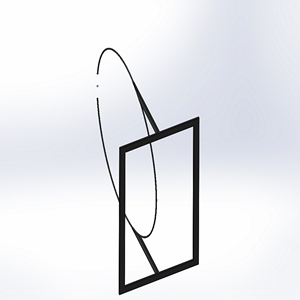circle: (94, 44, 201, 295)
